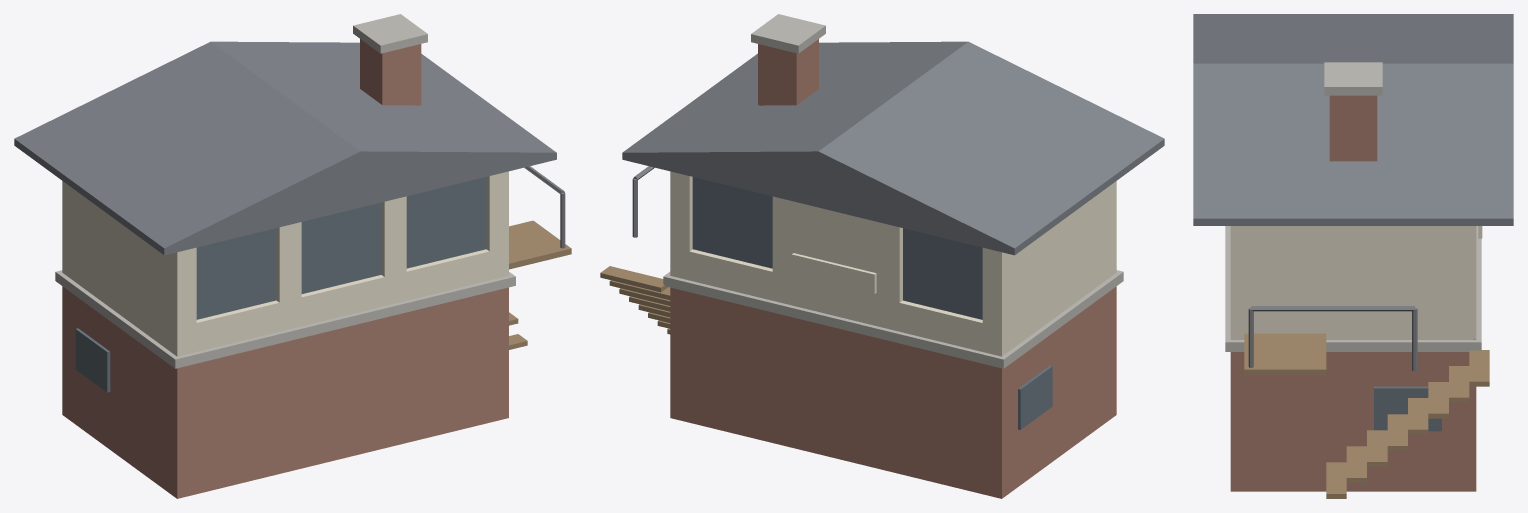
File: steam-era-railway-and-rolling-stock-signal-box-89e4fccd.glb
3 renders of one model, left to right at view 1: azimuth 30°, elevation 25°; view 2: azimuth 150°, elevation 25°; view 3: azimuth 270°, elevation 25°, orthographic. The views are drawn at different scales.
Parts seen in each view (by area): view 1: signal-box; view 2: signal-box; view 3: signal-box.
Part boxes in pixels (<box>): signal-box: <box>14,14,571,498</box>; signal-box: <box>600,14,1164,498</box>; signal-box: <box>1193,14,1513,498</box>.
Bounding box in the file's own units: 7.8 × 6.24 × 4.7.
